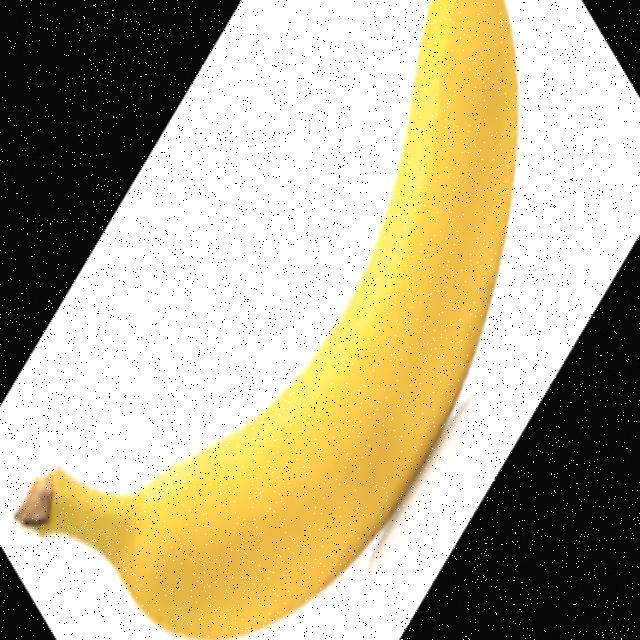god quality banana: (37, 0, 518, 637)
